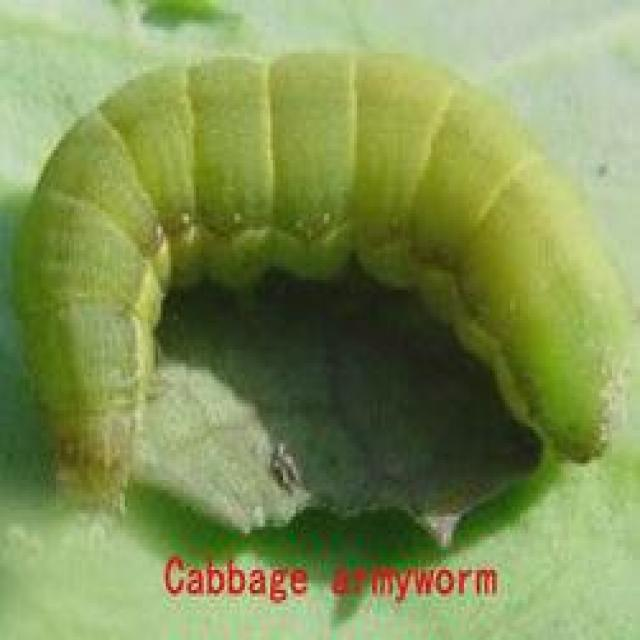BeetArmyWorm-Larva-: (20, 45, 636, 523)
